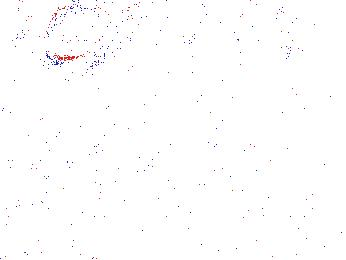moon jellyfish: (177, 1, 294, 86), (116, 1, 206, 64), (42, 2, 116, 65), (1, 4, 30, 65)
